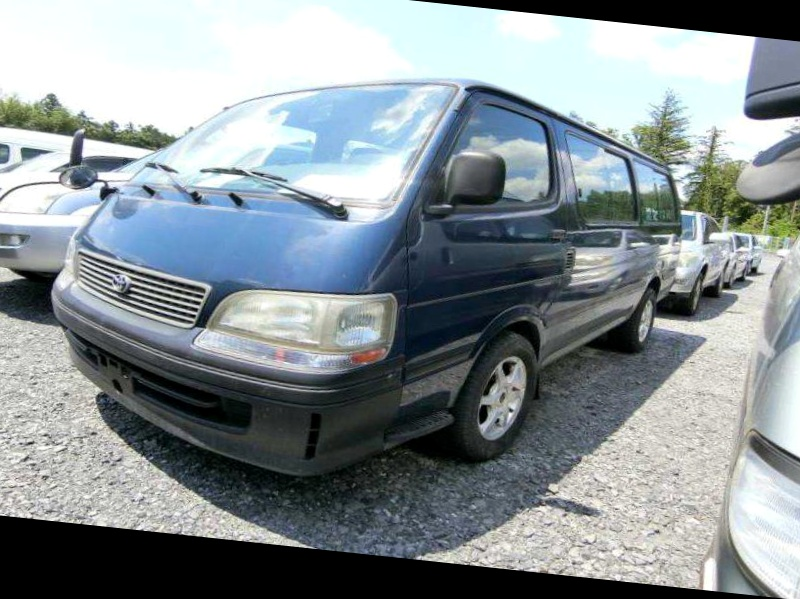van: (24, 37, 696, 521)
